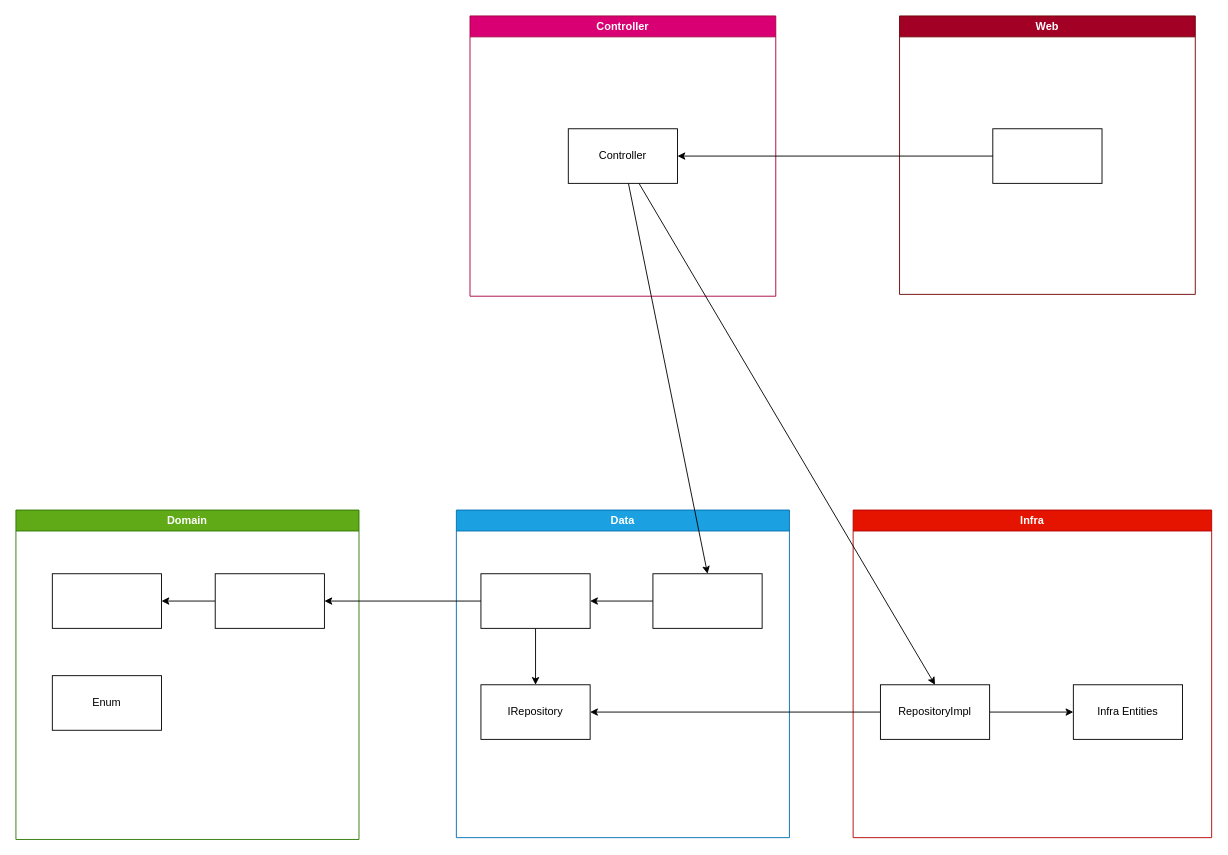
This 1228x855 diagram has some shape labels left out. The shapes that lost their labels are listed below. From the top down, each one's centre as x and y in pixels, then its label:
the point at 1047,155: Router
the point at 106,600: Entity
the point at 269,600: I - UseCase
the point at 535,600: UseCaseImpl
the point at 707,600: UseCaseFactory
